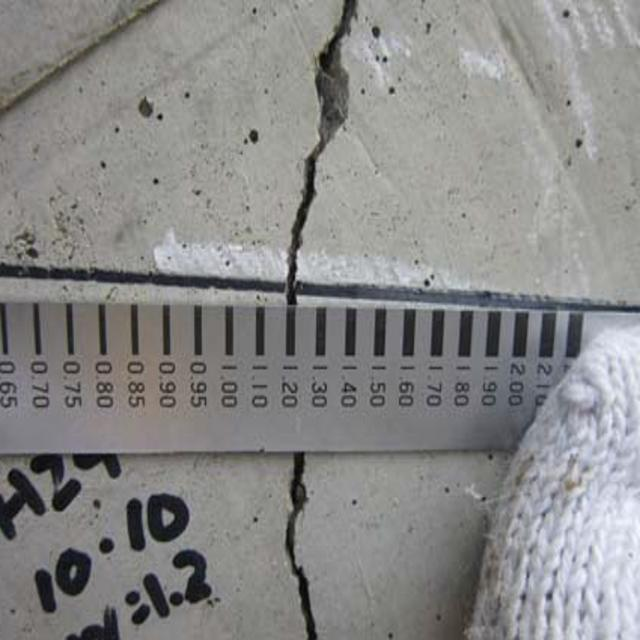crack: (264, 3, 374, 320), (261, 451, 336, 640)
